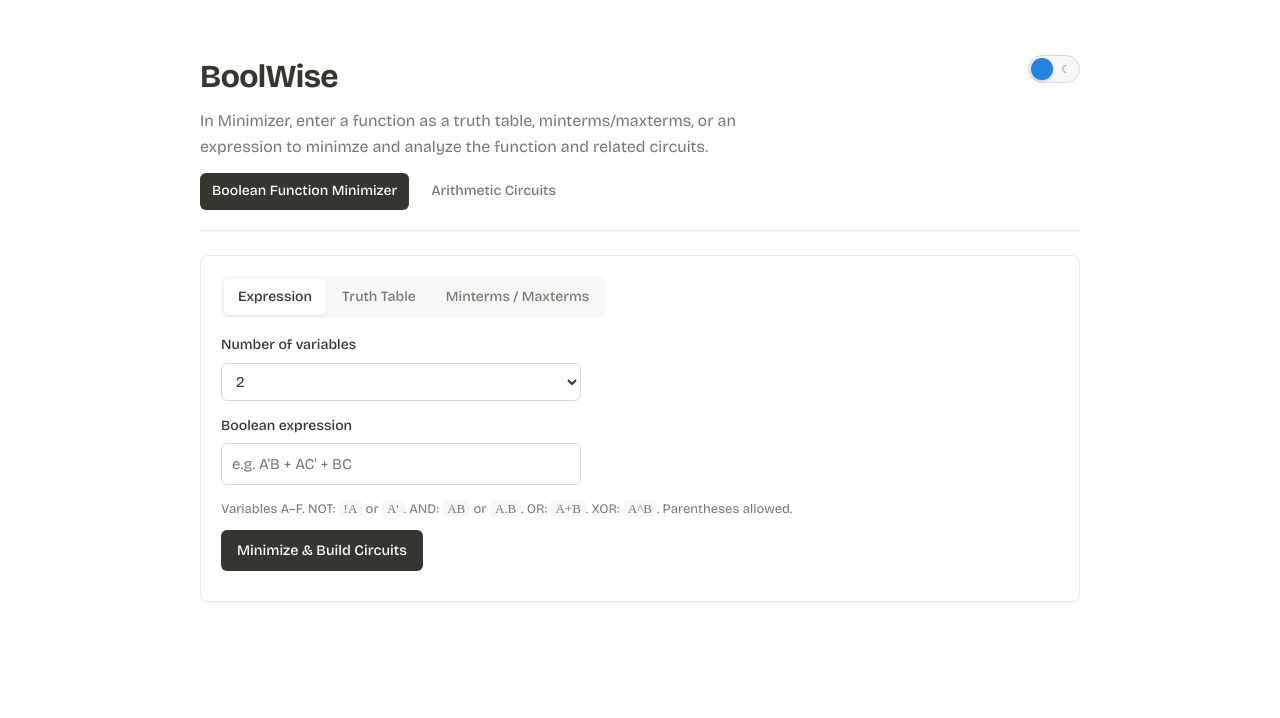
Test: MinimizerPage › generates from an expression and shows matching SOP
Click the tab "Expression": (275, 297) [224,279,326,315]
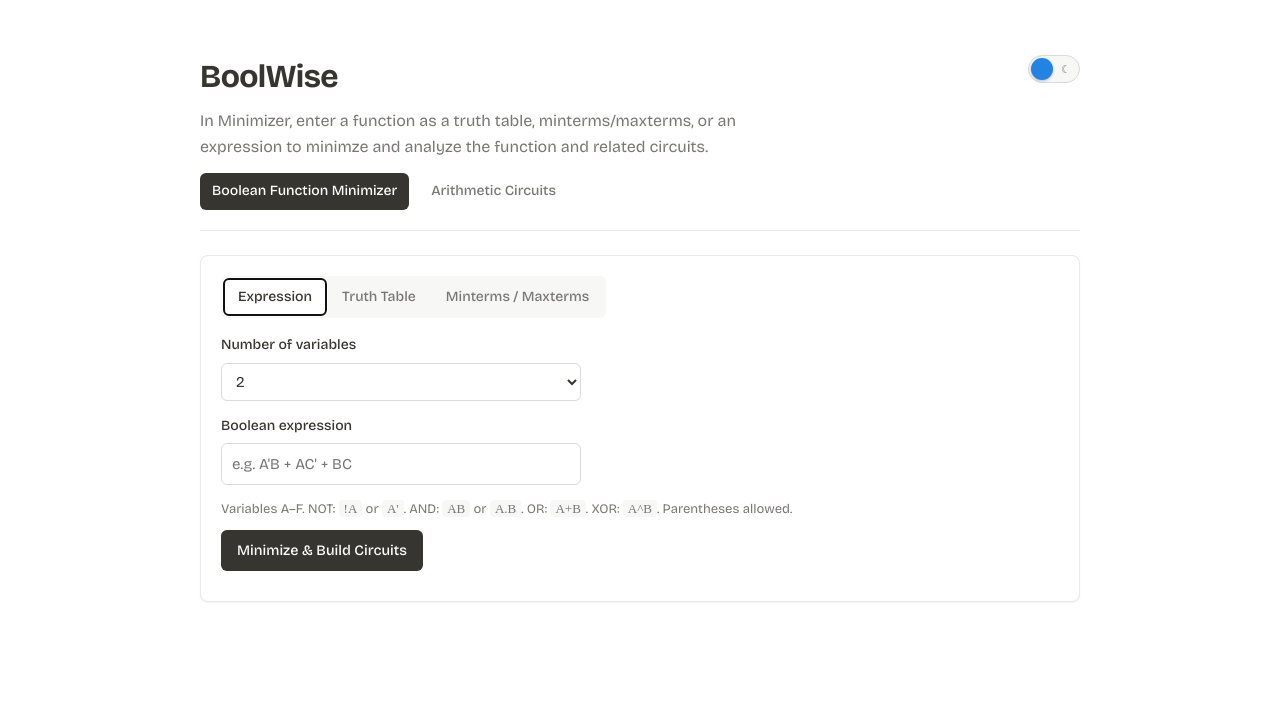
In the field labelled "Boolean expression": (401, 464) [221,443,581,485], type "A'B + AC' + BC"
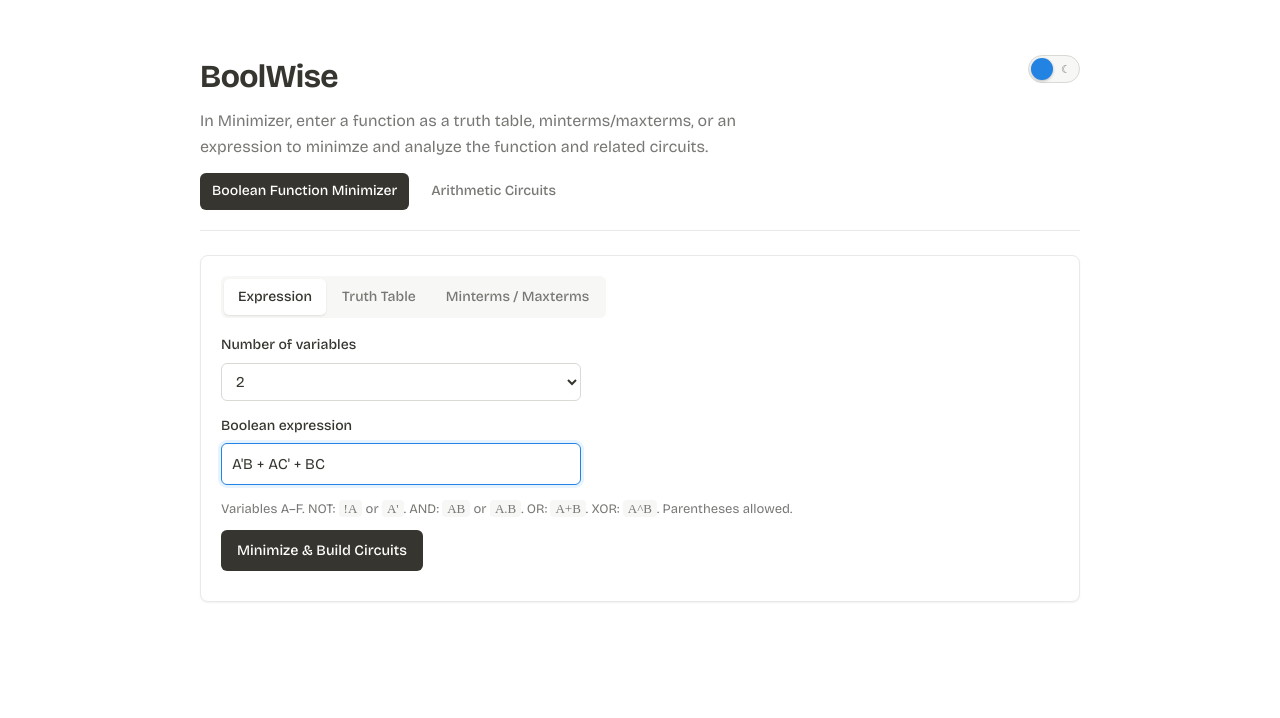
Click the button "Minimize & Build Circuits": (322, 550) [221,530,423,571]
(page scrolled)
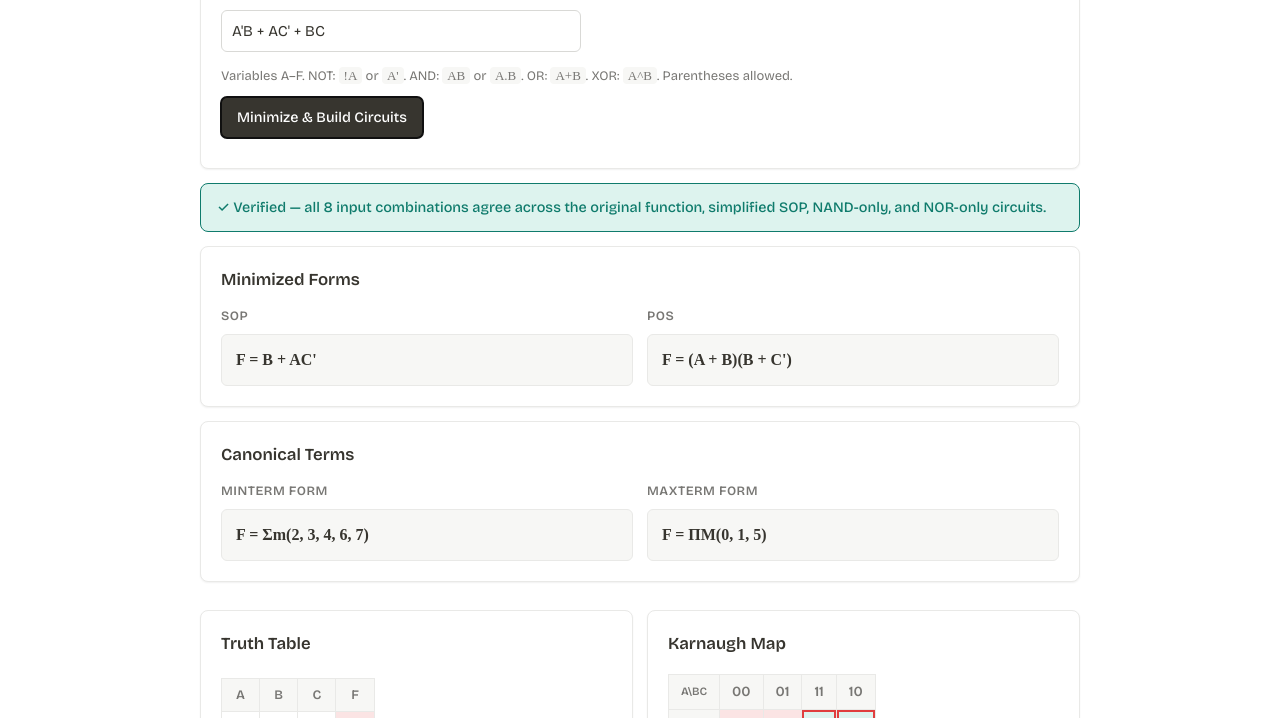
Now the text "input combinations agree" is shown, box [217,199,1046,216]
Now the text "F = B + AC'" is shown, box [221,334,633,386]
